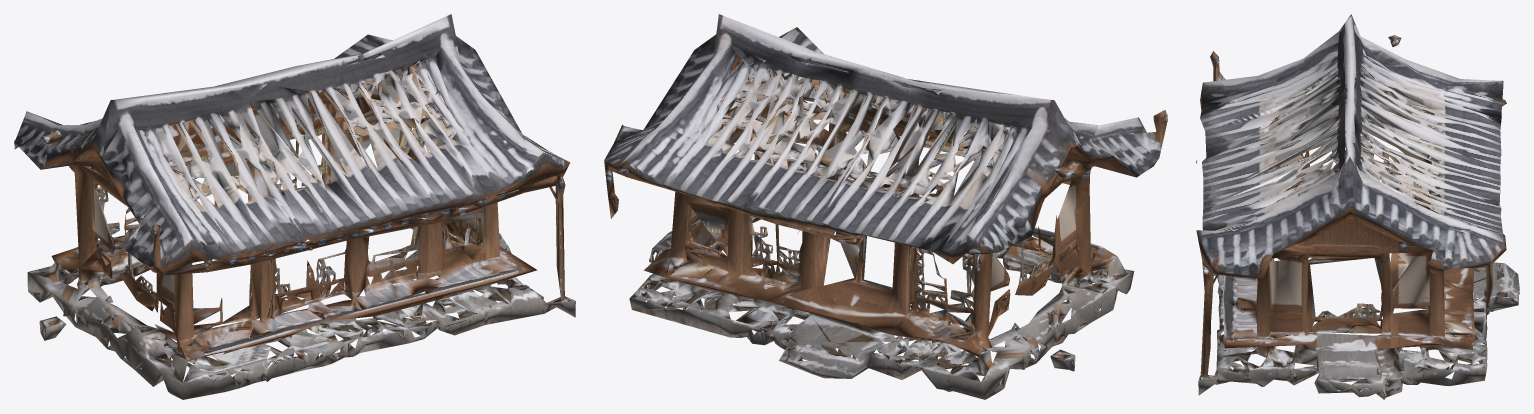
File: PR_Geoncheonggung.fbx
3 views of the same model, side by side, from view 1: azimuth 30°, elevation 25°; view 2: azimuth 150°, elevation 25°; view 3: azimuth 270°, elevation 25° (orthographic). The views are drawn at different scales.
Parts seen in each view (by area): view 1: texture_mapping; view 2: texture_mapping; view 3: texture_mapping.
Boxes of the visible parts, box(x1,y1,x2,y2) form: texture_mapping: box(14, 14, 575, 399); texture_mapping: box(604, 14, 1167, 399); texture_mapping: box(1196, 14, 1519, 399).
Size of the model in its own units: 0.9896 by 0.7186 by 0.5454.
1 material, 1 textured.
